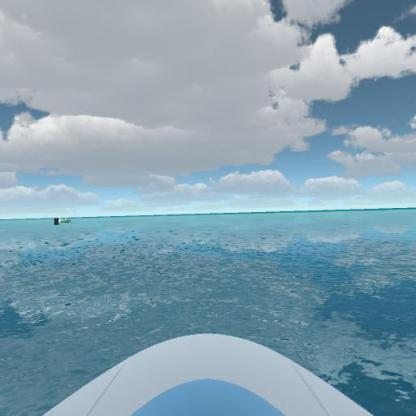usv0: (51, 212, 76, 229)
